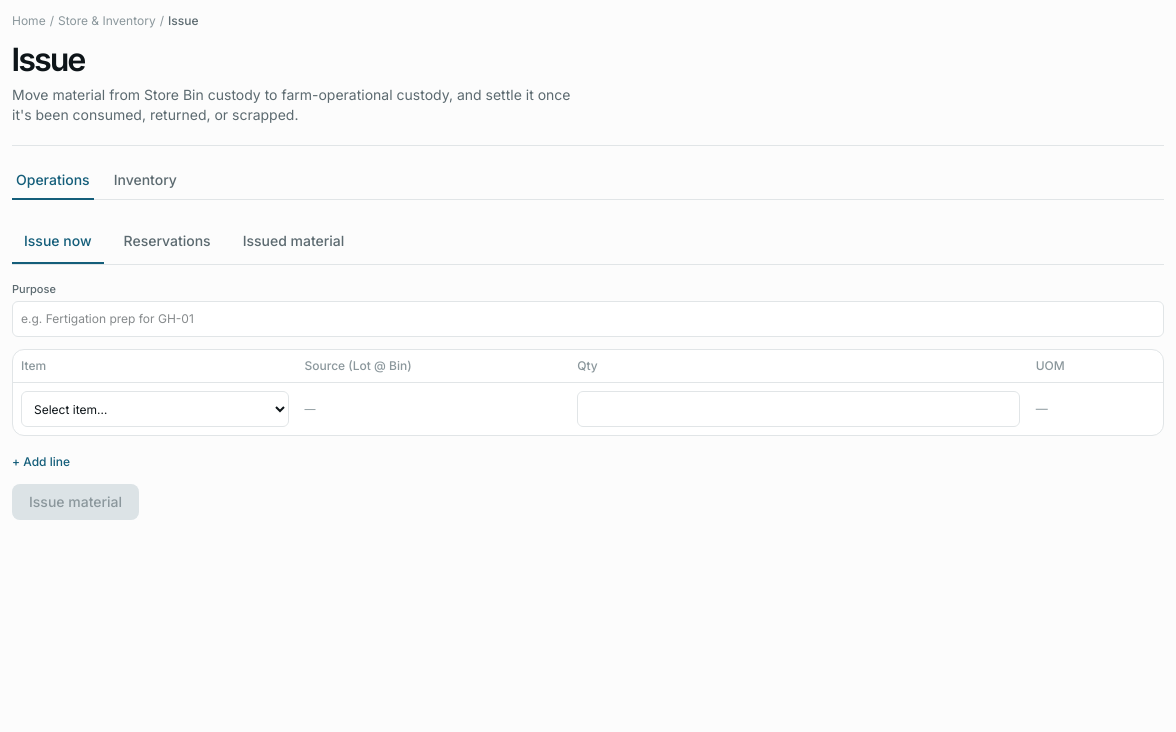
StoreInventoryIssuePage › Issue now: defaults the single usable source and submits a direct issue
Expected: the tab "Issue now" is shown, [12,220,104,264]
In the field with placeholder "e.g. Fertigation prep for GH-01": (588, 319) [12,301,1164,337], type "Nutrient mix"
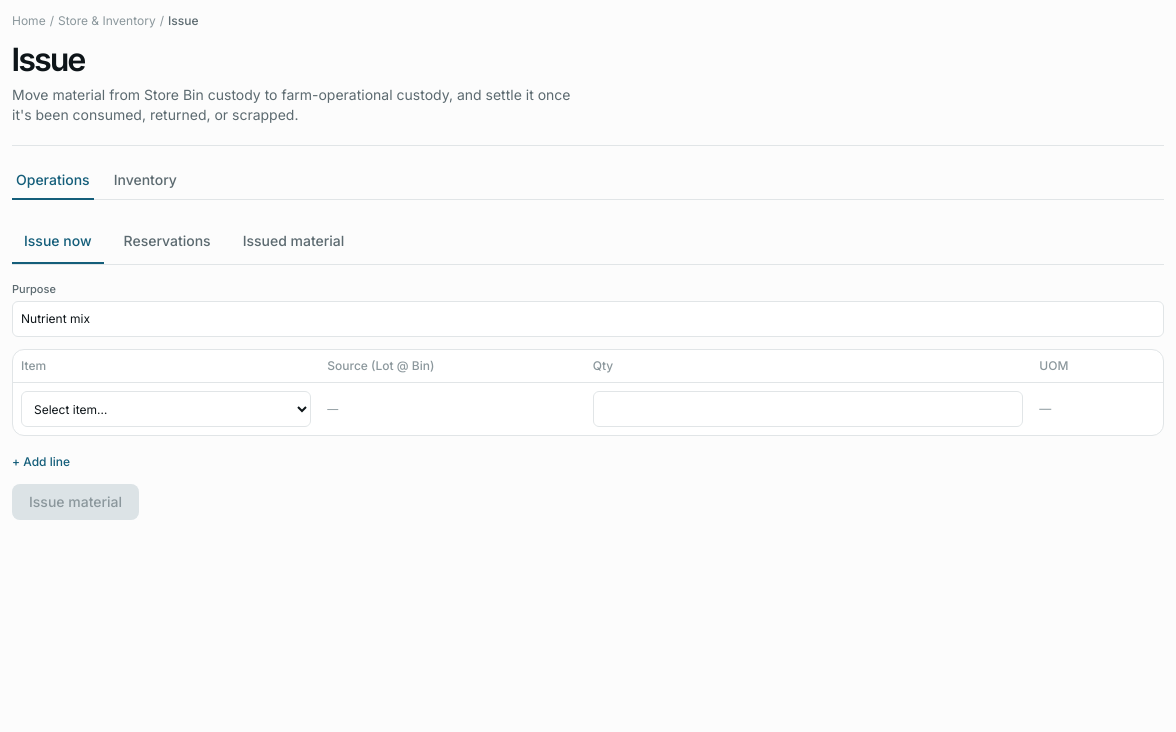
Select "Calcium Nitrate" in the dropdown: (166, 409) [21,391,311,427]
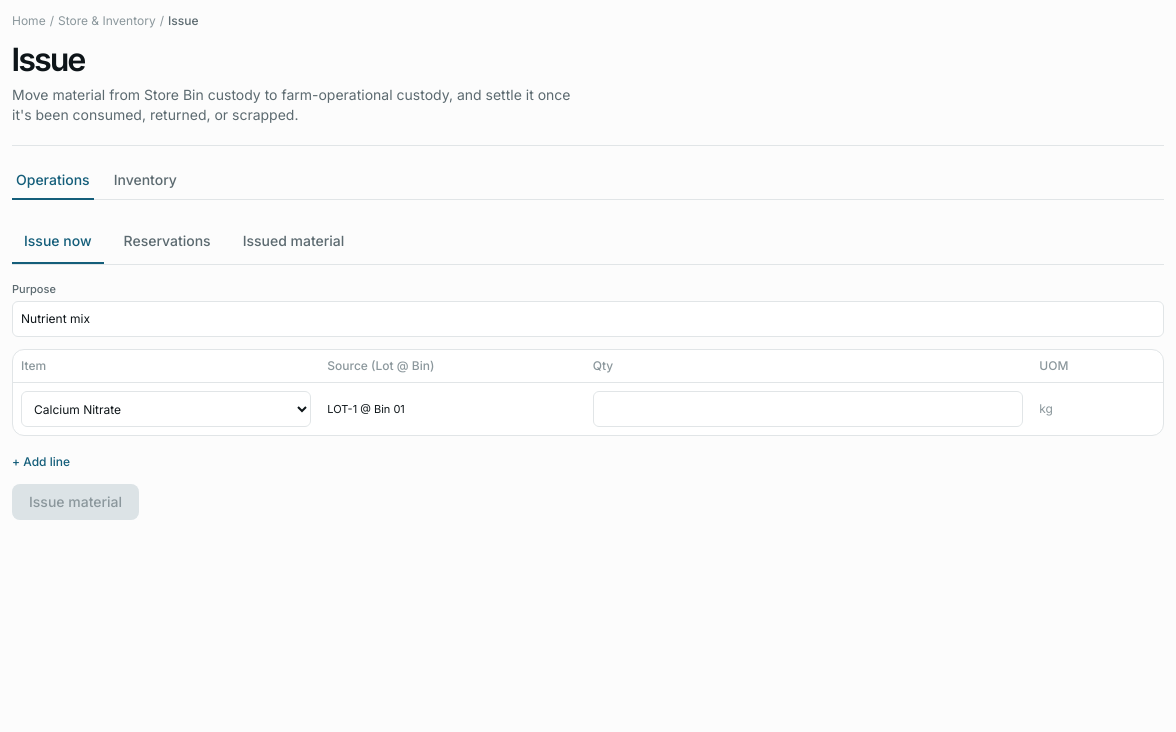
Result: the text "LOT-1 @ Bin 01" is shown at [327,402,405,416]
In the number field: (808, 409) [593,391,1023,427], type "5"
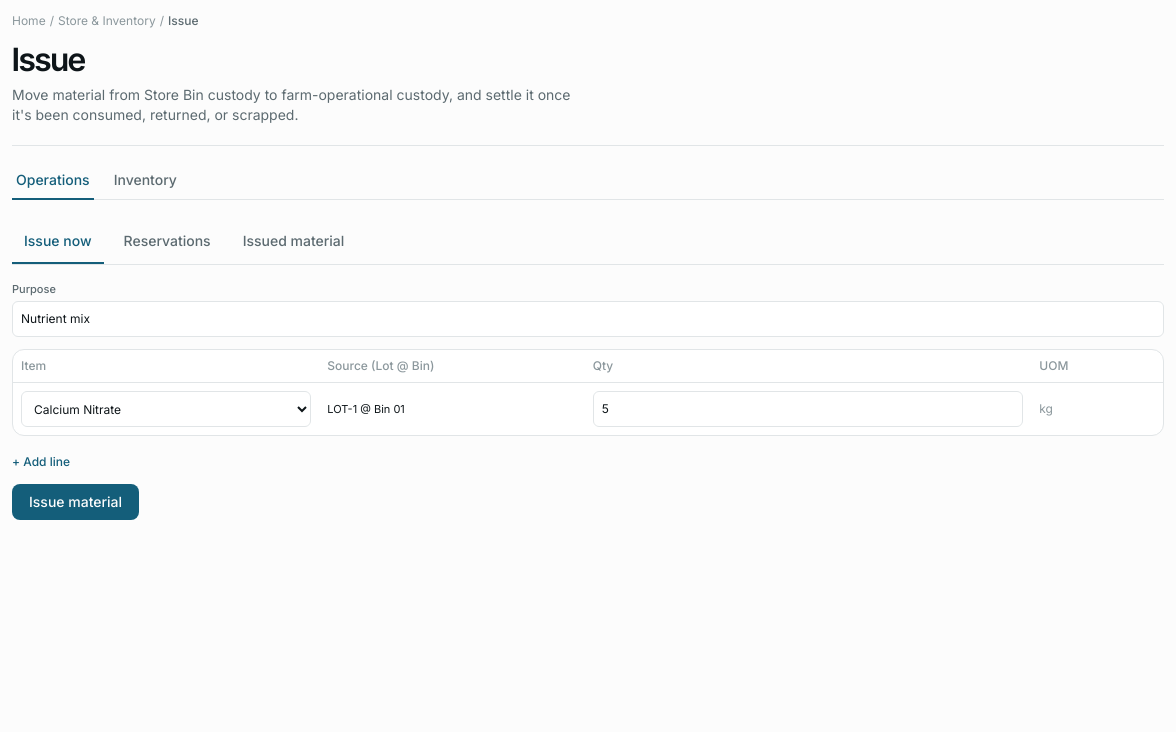
Click the button "Issue material": (76, 502) [12,484,139,520]
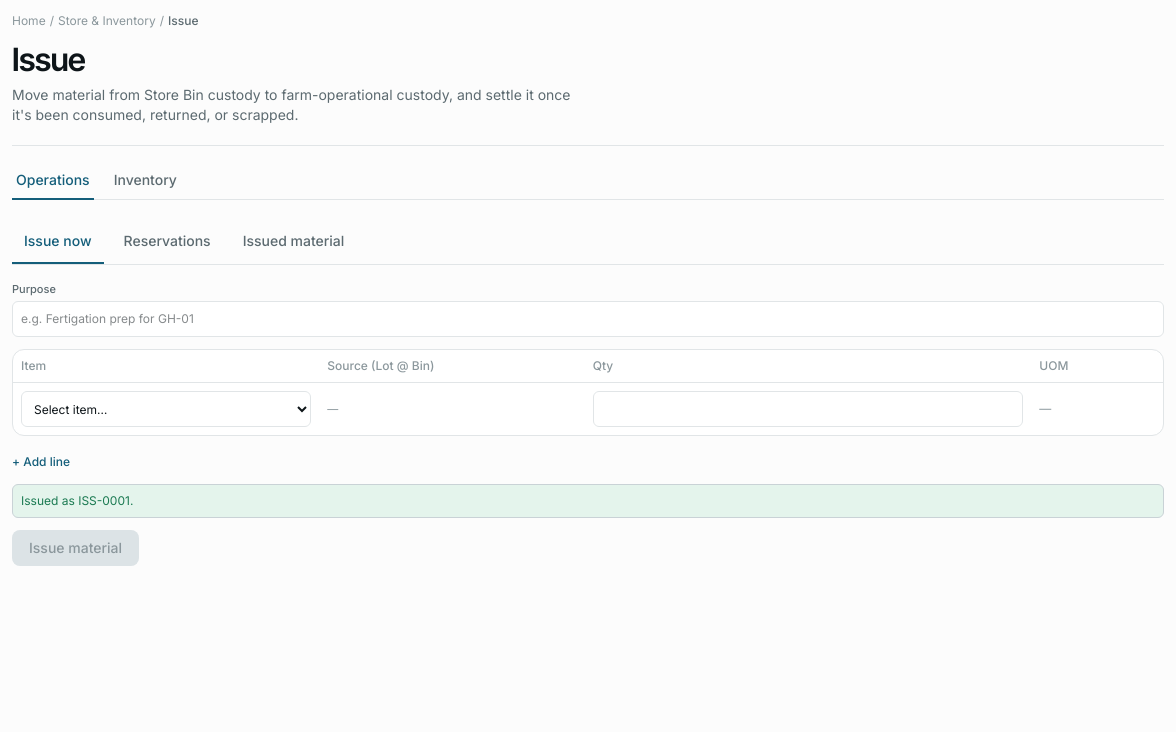
Result: the text "Issued as ISS-0001." is shown at [12,484,1164,518]
